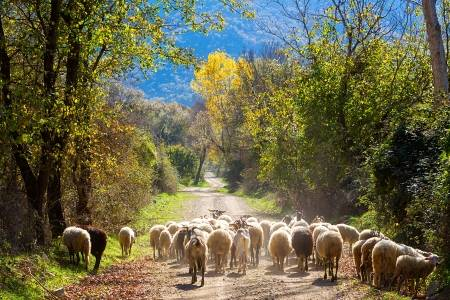sheep: (180, 227, 212, 284), (396, 249, 439, 290), (58, 226, 92, 269), (314, 229, 343, 278), (265, 229, 294, 270), (290, 221, 314, 270), (85, 222, 110, 266), (233, 229, 256, 275), (116, 223, 138, 258), (156, 229, 174, 258)
